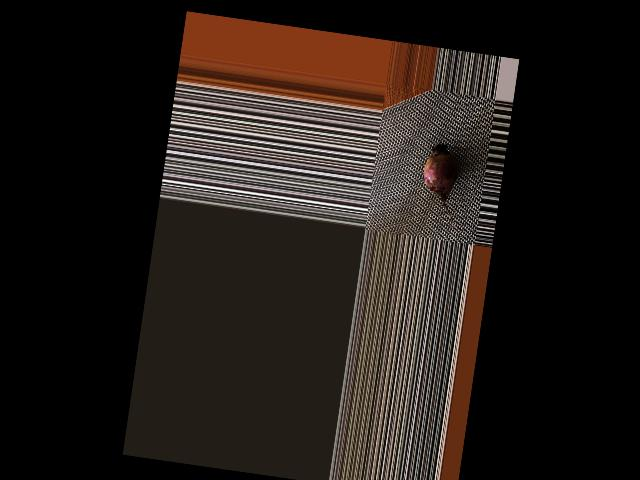beet: (416, 139, 475, 232)
